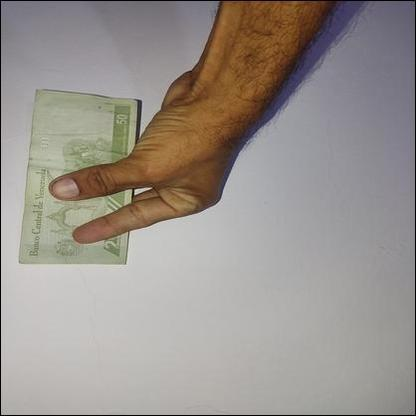fifty-back-vef: (17, 90, 138, 266)
